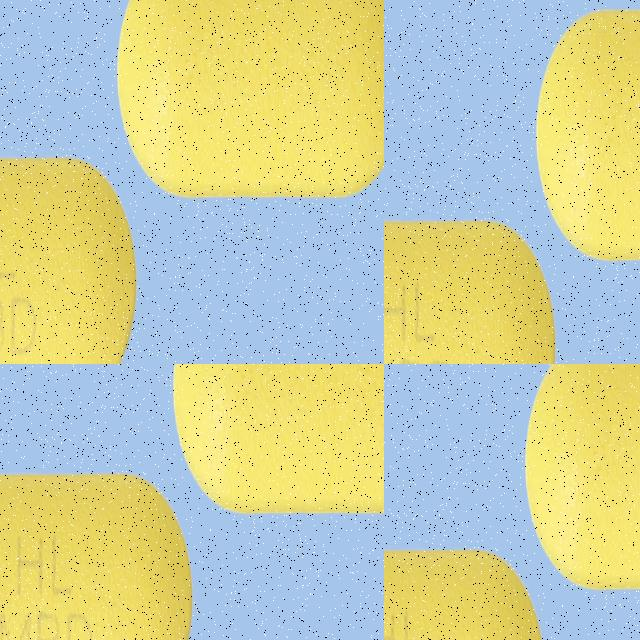Hericlo: (0, 457, 215, 640), (159, 364, 384, 516)
Levicin: (0, 227, 167, 364)
Mabid -500mg: (524, 364, 640, 593)
